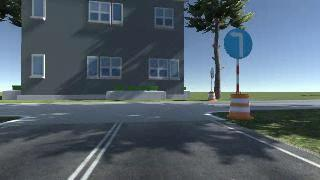turn_left: (223, 29, 252, 58)
